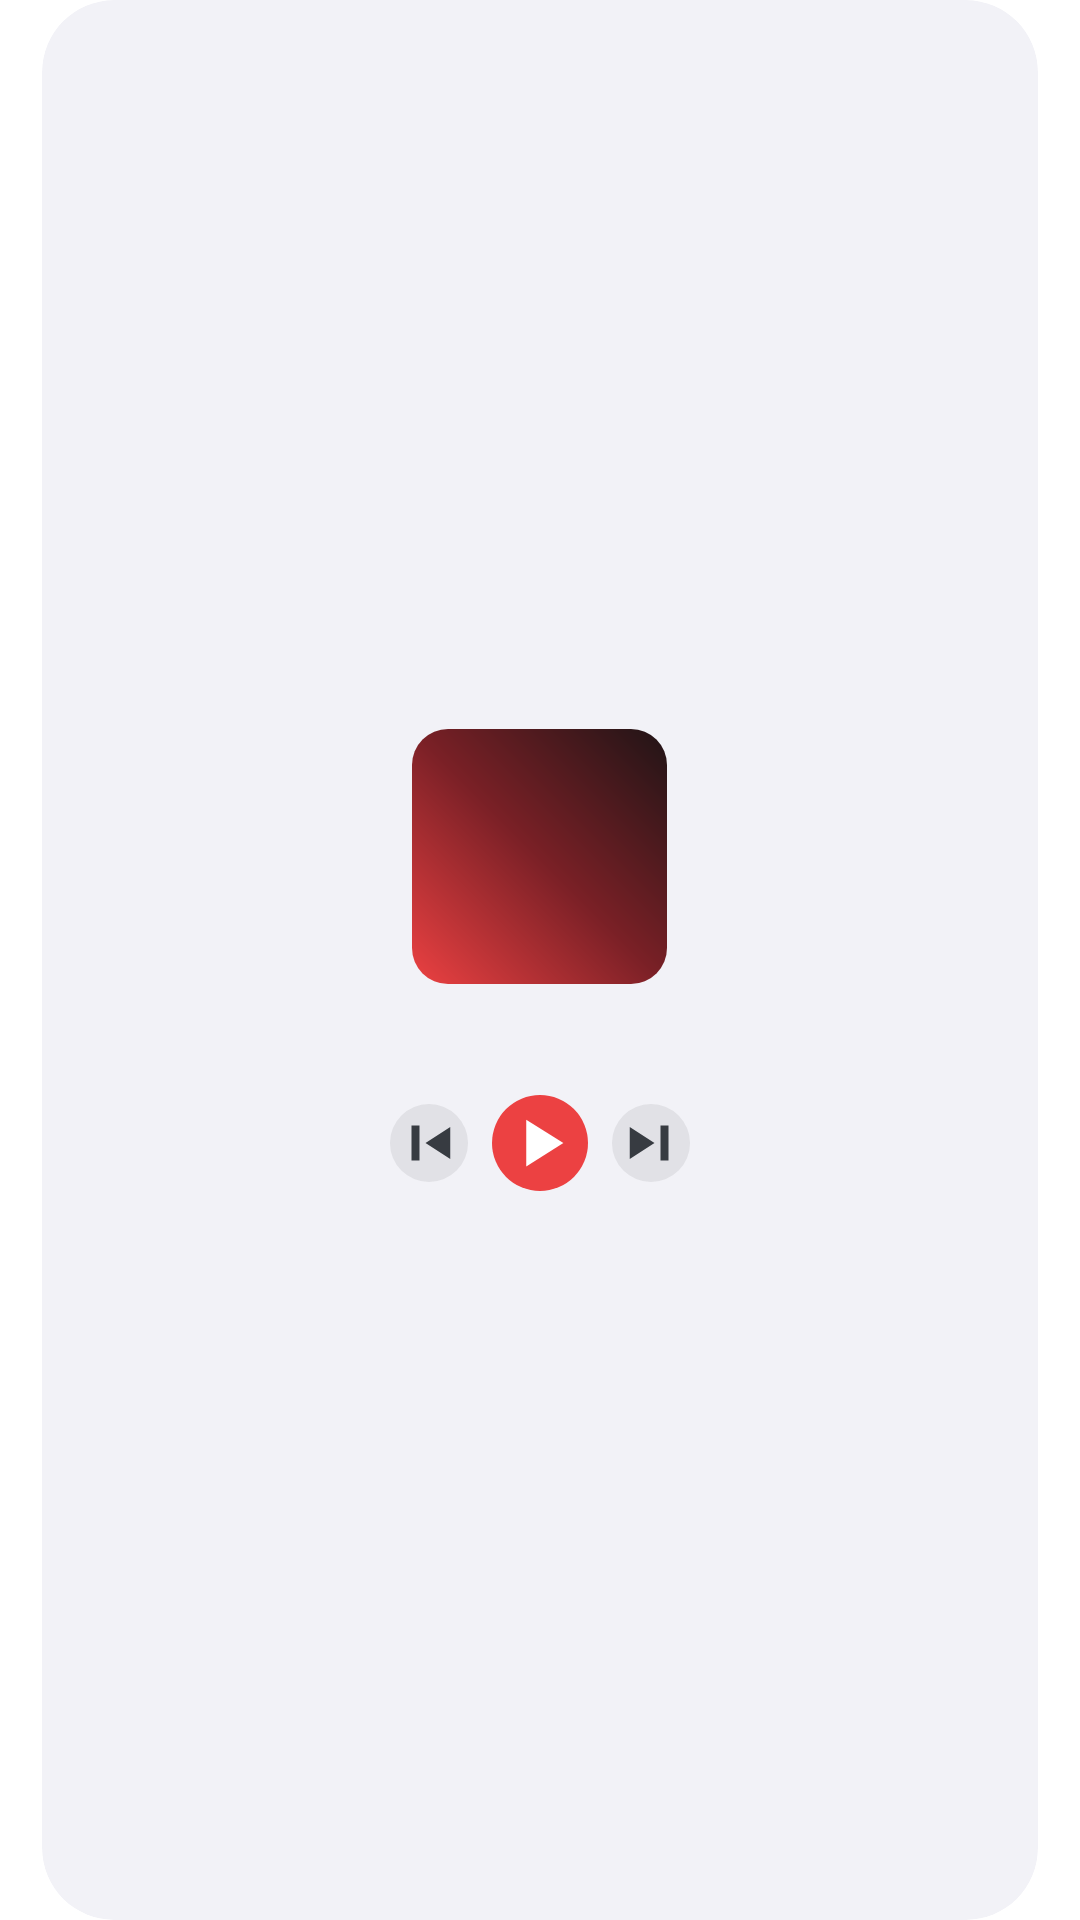

Screen size 1080 x 1920. Icon name, then its box in pixels as [x1,y1,x2,y2]:
play: [492,1095,588,1191]
skip next: [629,1125,669,1161]
skip previous: [411,1125,451,1161]
